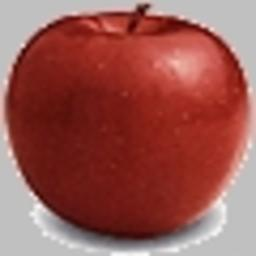apple: (0, 7, 253, 242)
